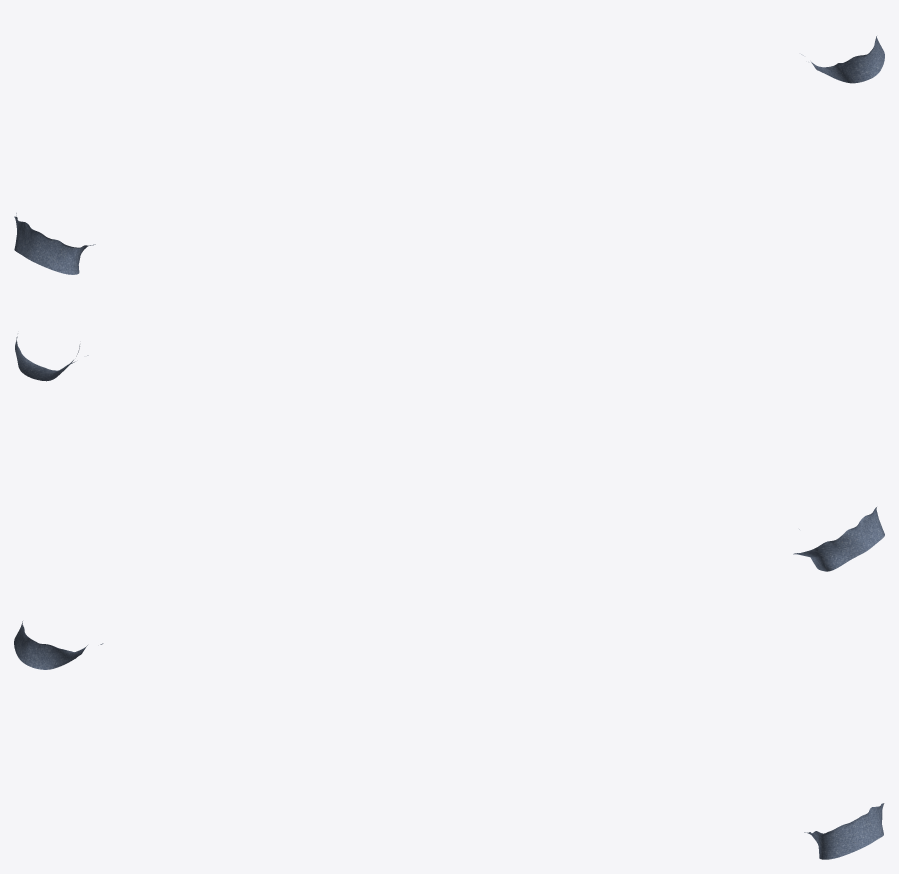
File: Jac_Rukav_V1.glb
The picture shows the model from 3 angles, top to bottom: view 1: azimuth 30°, elevation 25°; view 2: azimuth 150°, elevation 25°; view 3: azimuth 330°, elevation 25°; orthographic projection.
Parts seen in each view (by area): view 1: Jac_Rukav.001; view 2: Jac_Rukav.001; view 3: Jac_Rukav.001.
Boxes of the visible parts, left/top/right/bottom form: Jac_Rukav.001: left=14, top=36, right=884, bottom=274; Jac_Rukav.001: left=15, top=336, right=884, bottom=571; Jac_Rukav.001: left=14, top=621, right=884, bottom=859.
Bounding box in the file's own units: 1.71 × 0.0954 × 0.1955.
1 material, 1 textured.
